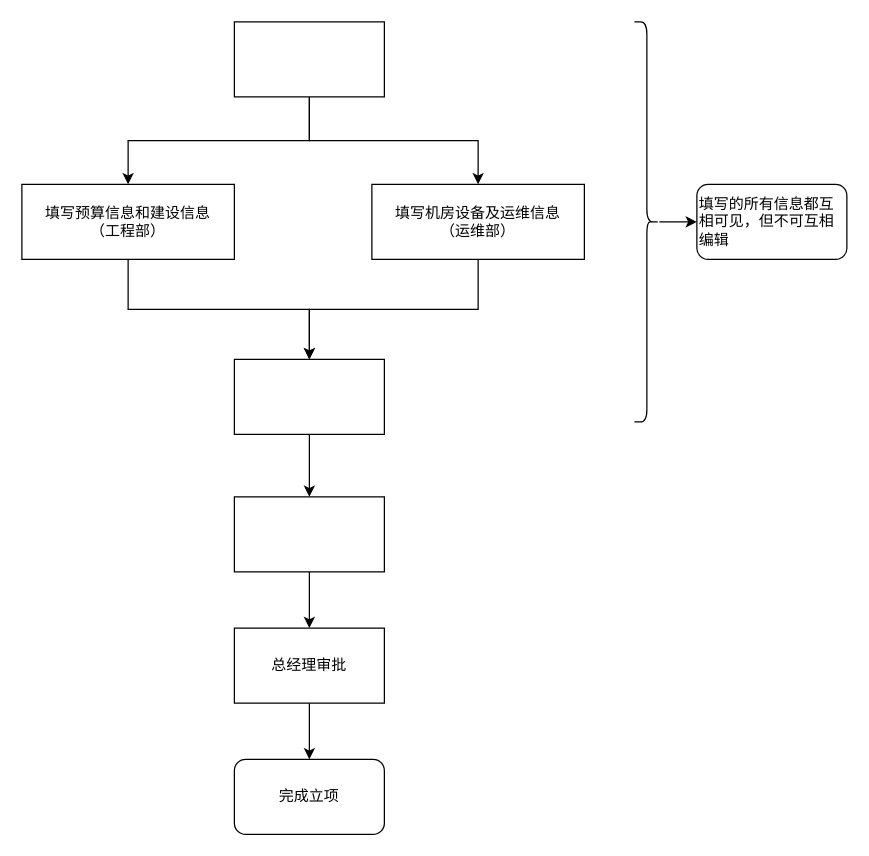
Some shapes in this 869 by 856 pixel diagram are drawn without their labels. The shapes that lost their labels are listed below. From the top down, each one's centre as x and y in pixels, then its label:
(x=308, y=59): 填写项目基础信息（市场部）
(x=308, y=396): 对以下填写的信息进行审核，并填写项目运营信息（市场部）
(x=308, y=534): 分管领导审核
